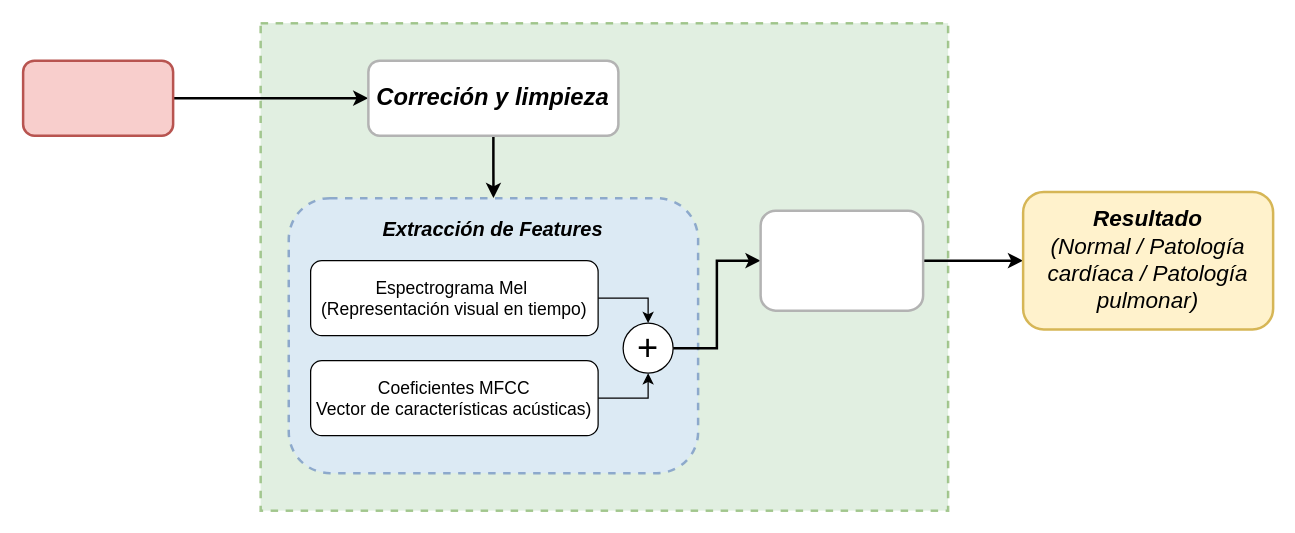
The diagram is 1295 pixels wide and 533 high, and some of its shapes have lost their labels. Each missing label, with the centre of its shape:
"Modelo de clasificación" belongs at (841,260).
"Señal de audio" belongs at (97,97).
